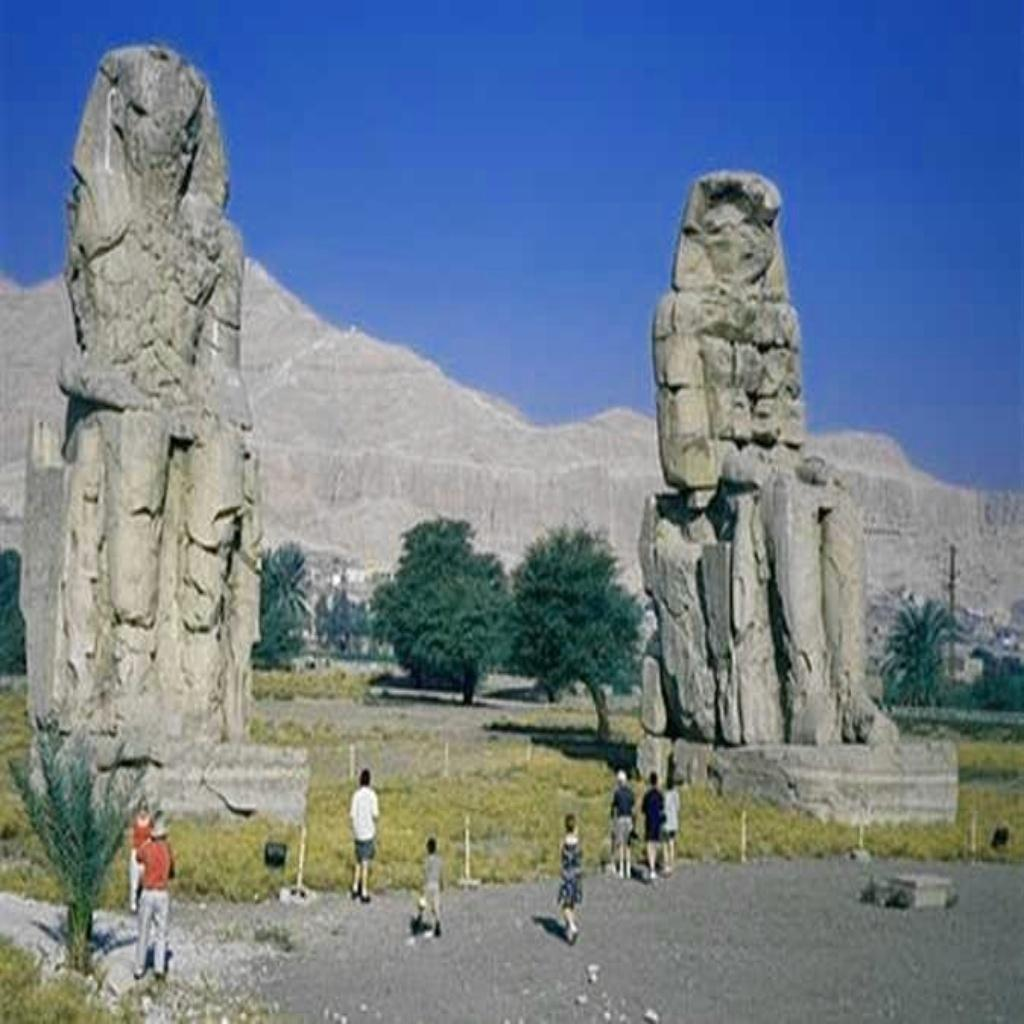Colossoi of Memnon: (629, 162, 957, 828), (29, 36, 272, 758)
